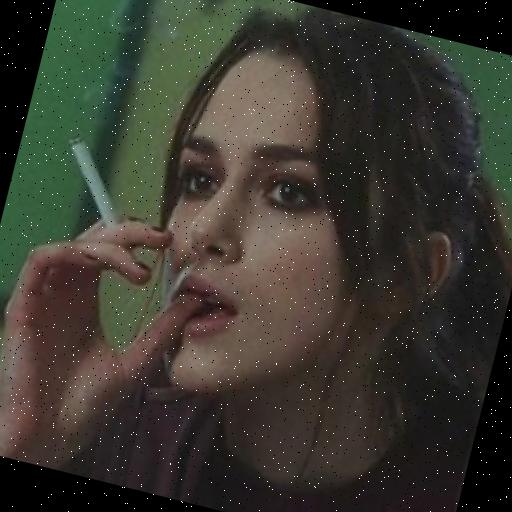terdeteksi pegang rokok: (0, 91, 213, 360)
